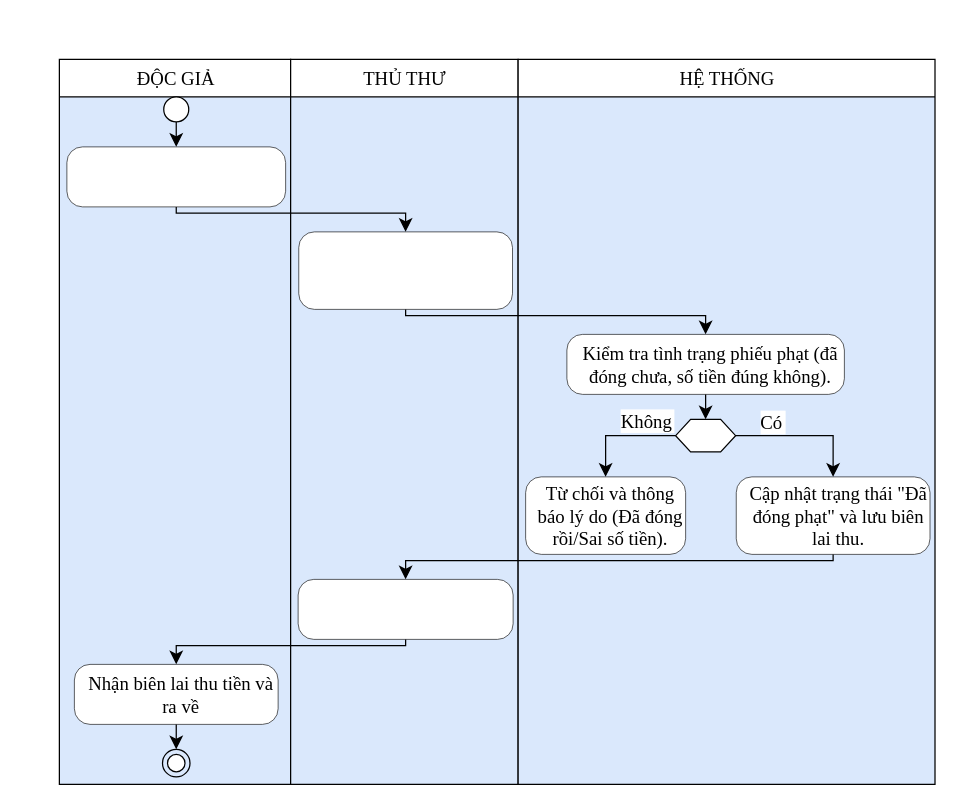
This 956x806 diagram has some shape labels left out. Each missing label, with the centre of its shape:
"Hợp lệ?" belongs at point (705, 435).
"In biên lai thu tiền và giao cho Độc giả" belongs at point (405, 608).
"Tiếp nhận tiền, tìm phiếu phạt và xác nhận thanh toán." belongs at point (405, 270).
"Đưa phiếu phạt và nộp tiền phạt." belongs at point (175, 176).
